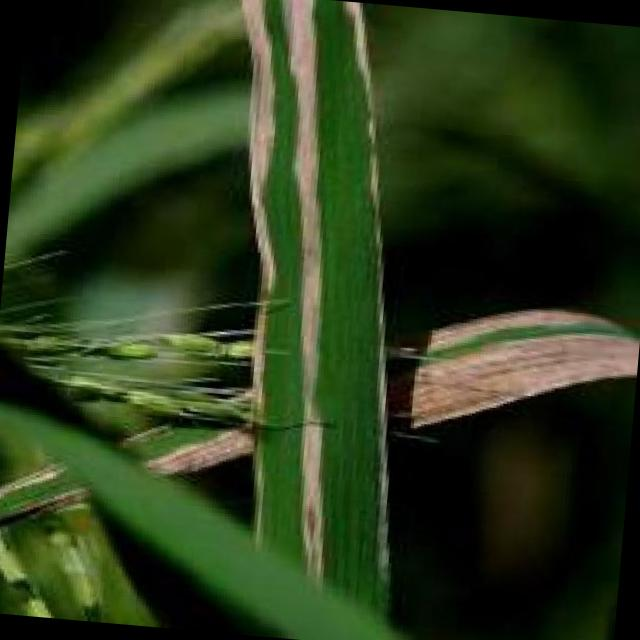Rice_Bacterial_Blight: (178, 0, 449, 593)
